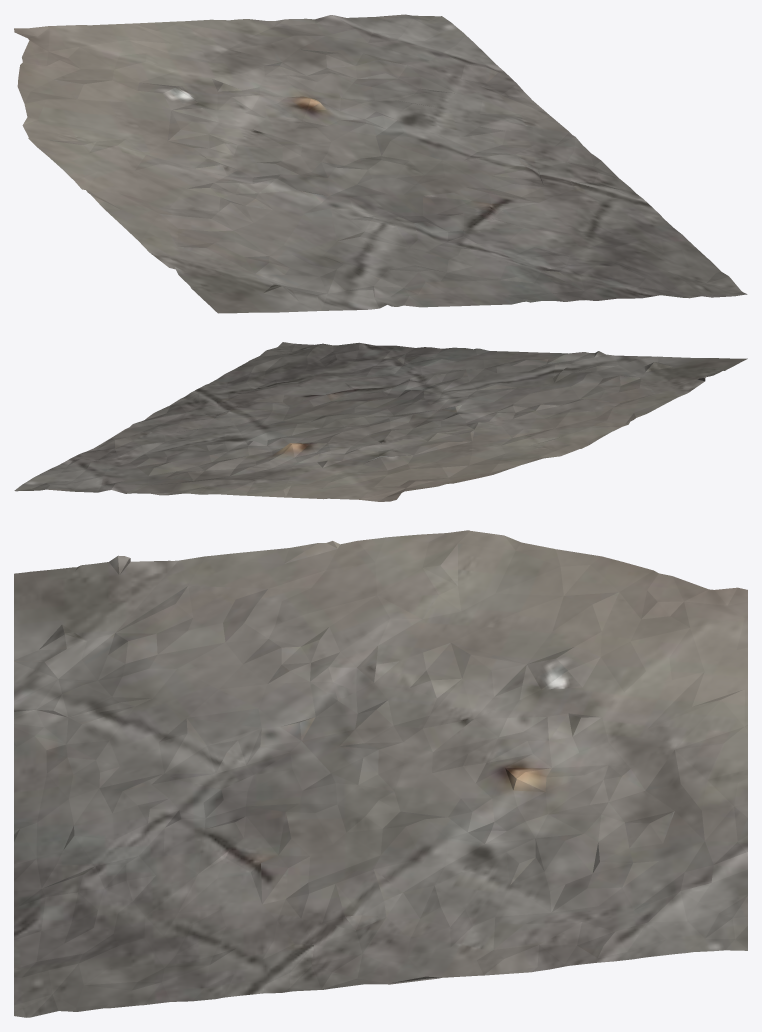
3 renders of one model, top to bottom at view 1: azimuth 30°, elevation 25°; view 2: azimuth 150°, elevation 25°; view 3: azimuth 270°, elevation 25°, orthographic. The views are drawn at different scales.
Bounding box in the file's own units: 0.8373 × 0.2234 × 0.8374.
Materials: 3 (3 with a texture image).
